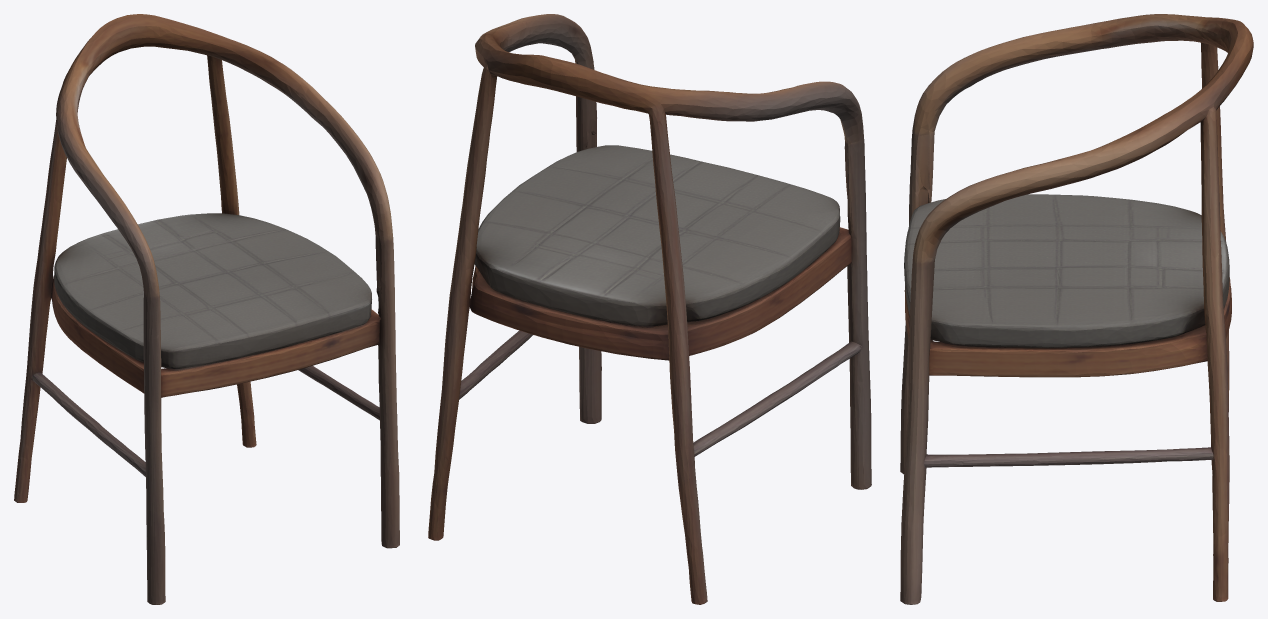
3 views of the same model, side by side, from view 1: azimuth 30°, elevation 25°; view 2: azimuth 150°, elevation 25°; view 3: azimuth 270°, elevation 25° (orthographic). The views are drawn at different scales.
Parts seen in each view (by area): view 1: world; view 2: world; view 3: world.
Part boxes in pixels (<box>): world: <box>14,14,399,604</box>; world: <box>428,14,871,604</box>; world: <box>900,14,1253,604</box>.
Size of the model in its own units: 0.5996 by 1 by 0.635.
Materials: 1 (1 with a texture image).
